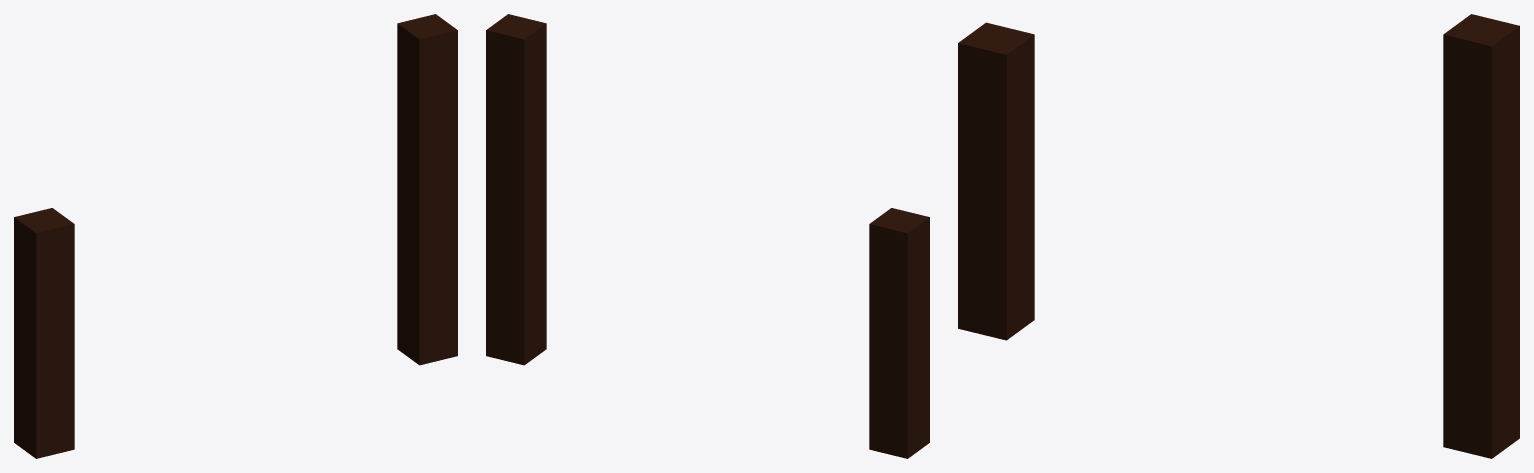
The model's file is Railing-2x1-Post-Double-Ends-Ramped-Lower.FBX.
The picture shows the model from 3 angles, left to right: view 1: azimuth 30°, elevation 25°; view 2: azimuth 150°, elevation 25°; view 3: azimuth 330°, elevation 25°; orthographic projection. The views are drawn at different scales.
Parts seen in each view (by area): view 1: Railing-2x1-Post-Double-Ends-Ramped-Lower; view 2: Railing-2x1-Post-Double-Ends-Ramped-Lower; view 3: Railing-2x1-Post-Double-Ends-Ramped-Lower.
Boxes of the visible parts, x1,y1,x2,y2 form: Railing-2x1-Post-Double-Ends-Ramped-Lower: [14, 14, 457, 458]; Railing-2x1-Post-Double-Ends-Ramped-Lower: [486, 14, 929, 458]; Railing-2x1-Post-Double-Ends-Ramped-Lower: [958, 14, 1519, 458].
Bounding box in the file's own units: 22 × 2 × 16.25.
